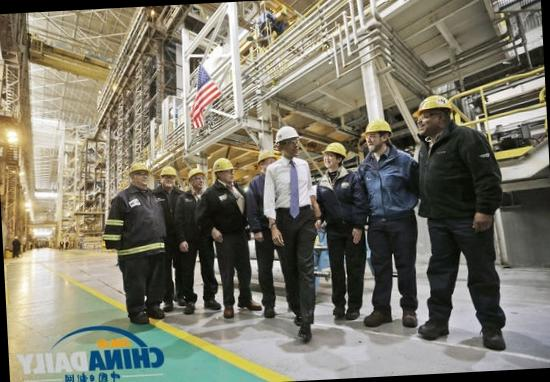helmet: (414, 92, 454, 116), (364, 116, 393, 137), (272, 123, 301, 144), (322, 140, 349, 158), (210, 158, 236, 175), (185, 166, 206, 183), (127, 162, 151, 176), (258, 150, 276, 164), (156, 166, 176, 178)
no_wear: (265, 158, 314, 214)
wear: (420, 134, 494, 220), (361, 154, 417, 220), (110, 188, 163, 257), (318, 170, 364, 232), (204, 182, 247, 237)
